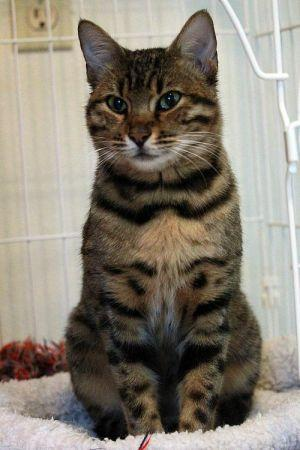bengal: (74, 5, 232, 179)
